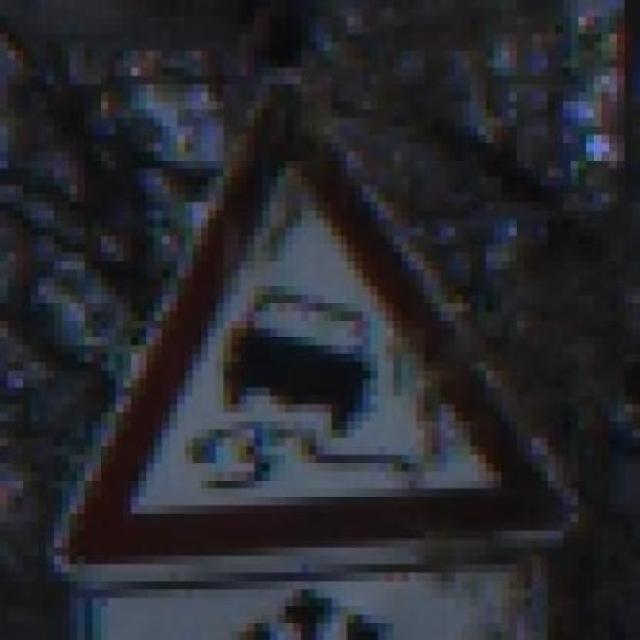Slippery Road Ahead: (38, 84, 610, 581)
